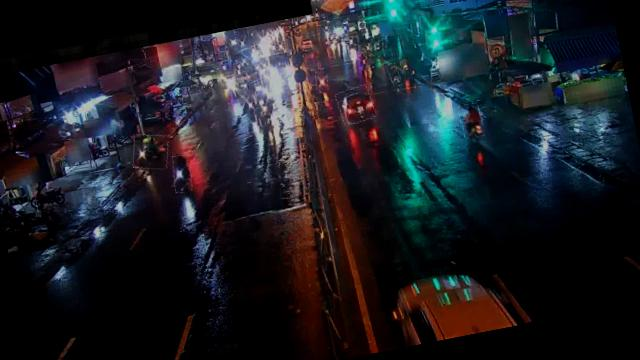Bike: (130, 130, 172, 174), (33, 180, 65, 212), (458, 102, 485, 138), (170, 153, 194, 193), (314, 67, 330, 93), (243, 93, 258, 119), (387, 62, 401, 86), (256, 90, 268, 112), (400, 55, 409, 73)
Car: (336, 85, 376, 126)
